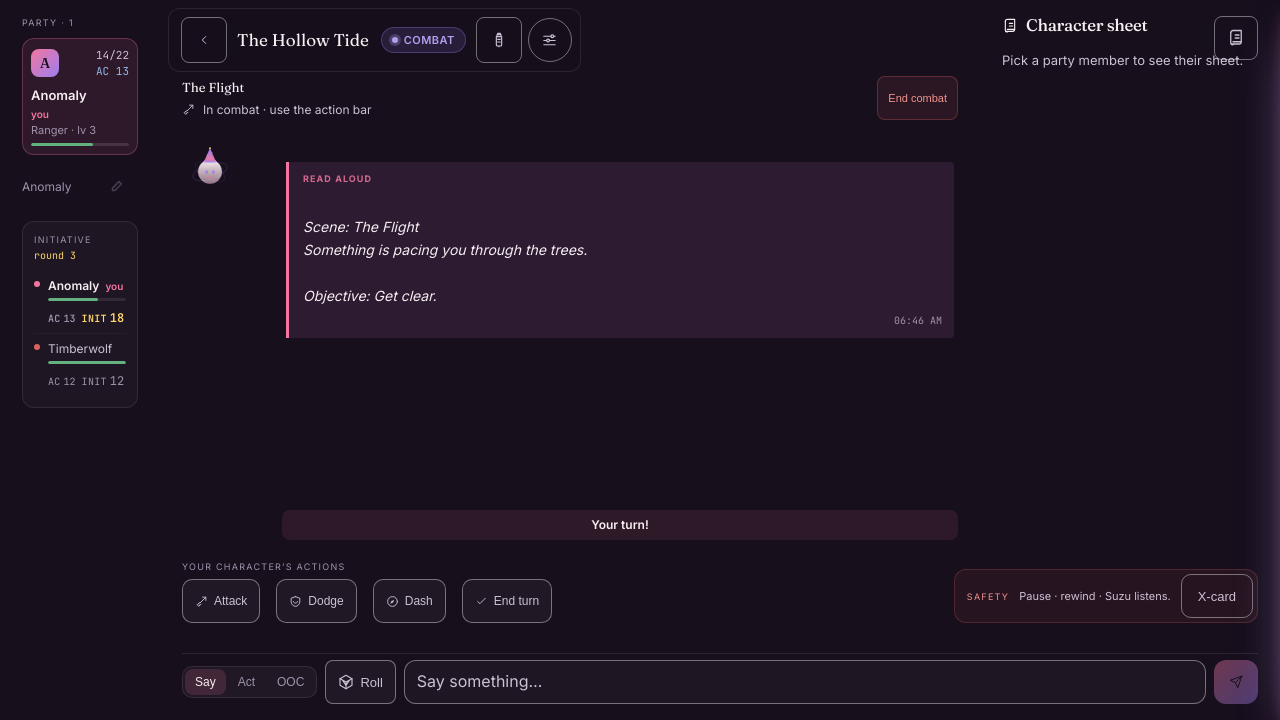
WF-O-OUTCOMELINE (T2) — outcome_line renders on a scene_advance; only arrival_line gates the generic beat › attack: outcome_line stacks the same way as death-save — not death-save-only
Expected: the text "The Hollow Tide" is shown, [237, 27, 369, 53]
Click the button "Attack": [221, 601] box [182, 579, 260, 623]
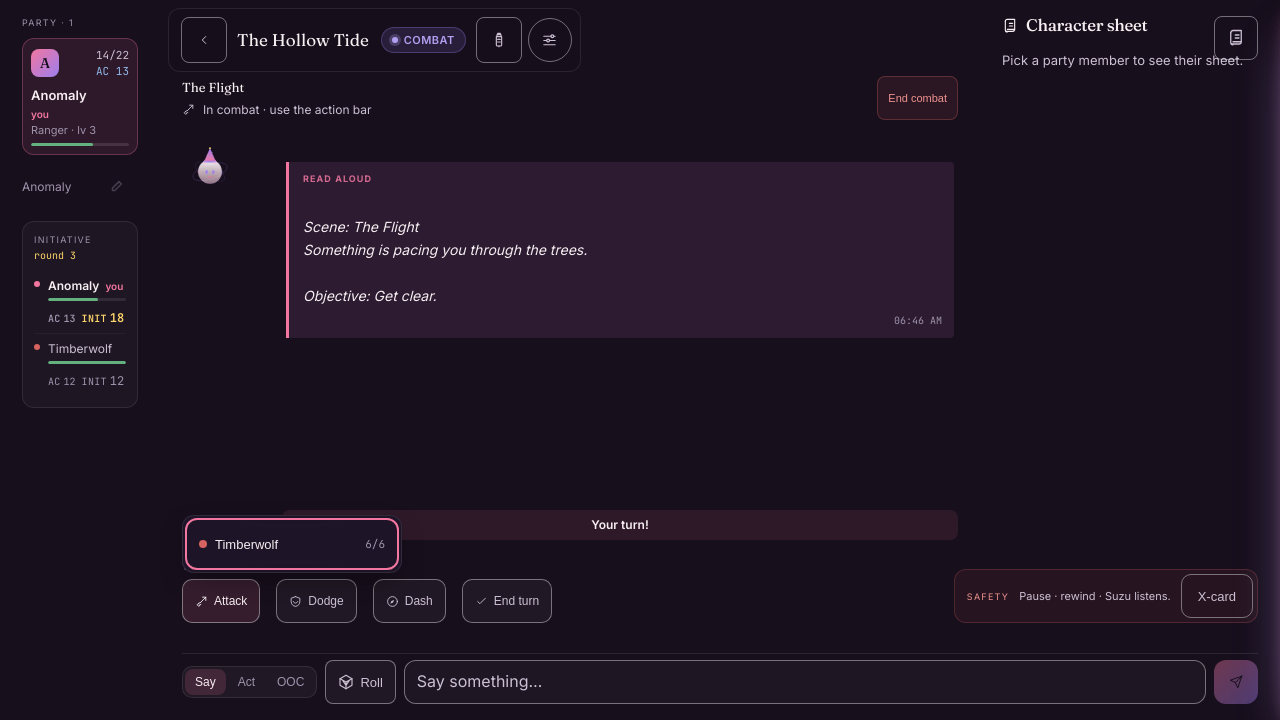
Expected: the menu is shown, [182, 515, 402, 573]
Click the menu item "Timberwolf 6/6": [292, 544] box [189, 522, 395, 566]
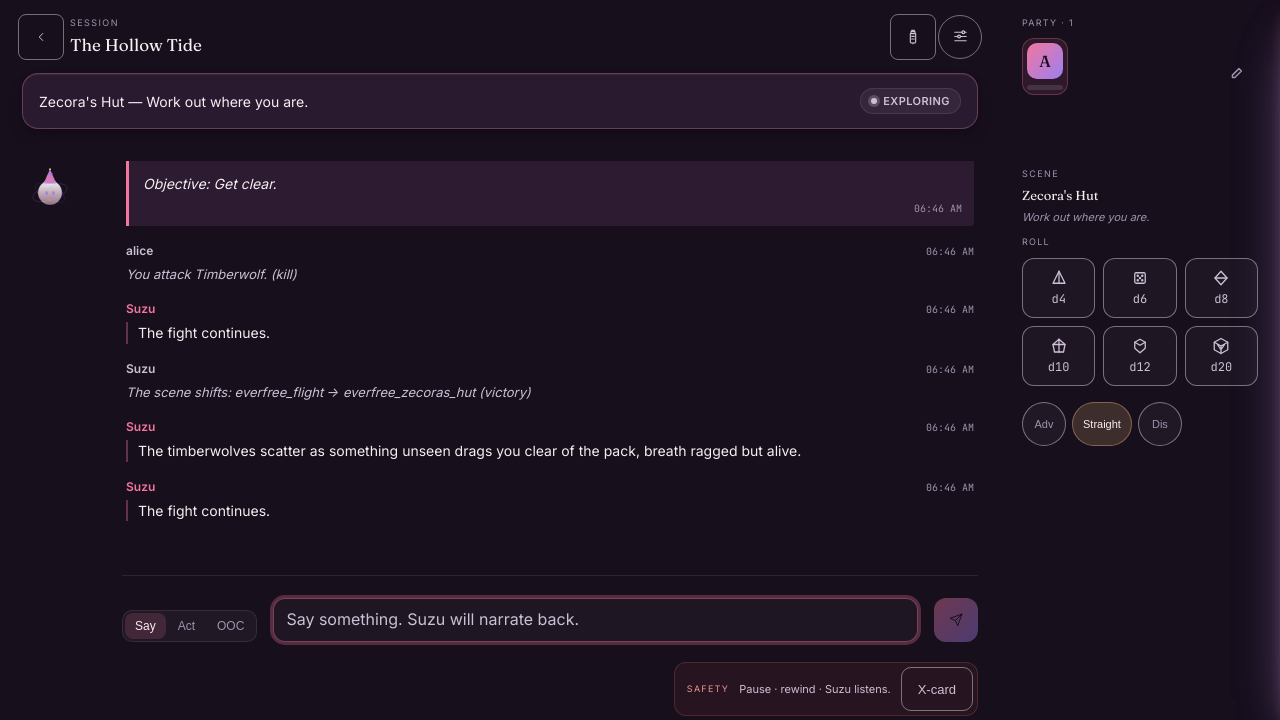
Expected: the text "The timberwolves scatter as something unseen drags you clear of the pack, breath ragged but alive." is shown, [138, 442, 801, 459]
